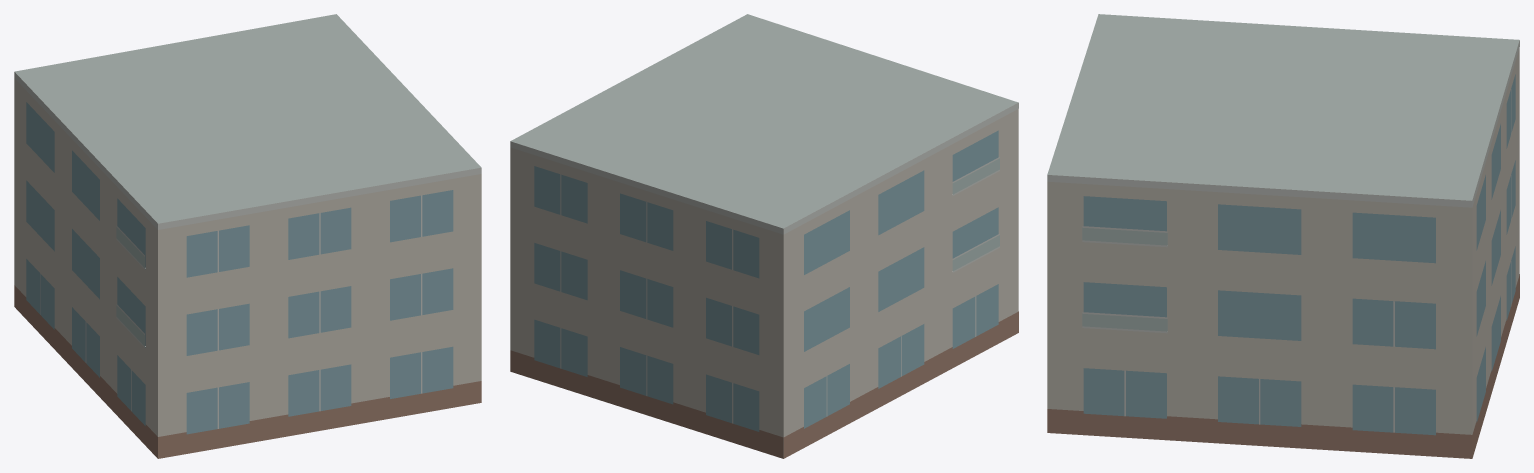
File: residential-3beb3754-921b-475a-9601-9a0e14be540e.glb
3 views of the same model, side by side, from view 1: azimuth 30°, elevation 25°; view 2: azimuth 150°, elevation 25°; view 3: azimuth 270°, elevation 25° (orthographic). The views are drawn at different scales.
Parts seen in each view (by area): view 1: residential-3beb3754-921b-475a-9601-9a0e14be540e.tmp; view 2: residential-3beb3754-921b-475a-9601-9a0e14be540e.tmp; view 3: residential-3beb3754-921b-475a-9601-9a0e14be540e.tmp.
Part boxes in pixels (box(x1,y1,x2,y2)): residential-3beb3754-921b-475a-9601-9a0e14be540e.tmp: box(14, 14, 481, 458); residential-3beb3754-921b-475a-9601-9a0e14be540e.tmp: box(510, 14, 1018, 458); residential-3beb3754-921b-475a-9601-9a0e14be540e.tmp: box(1047, 14, 1519, 458).
Bounding box in the file's own units: 14.22 × 9.15 × 15.2.
